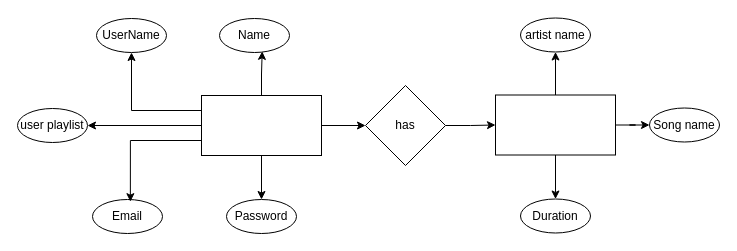
Some shapes in this 737 by 251 pixel diagram are drawn without their labels. Each missing label, with the centre of its shape:
"Song" belongs at point 555,124.
"User" belongs at point 261,125.
